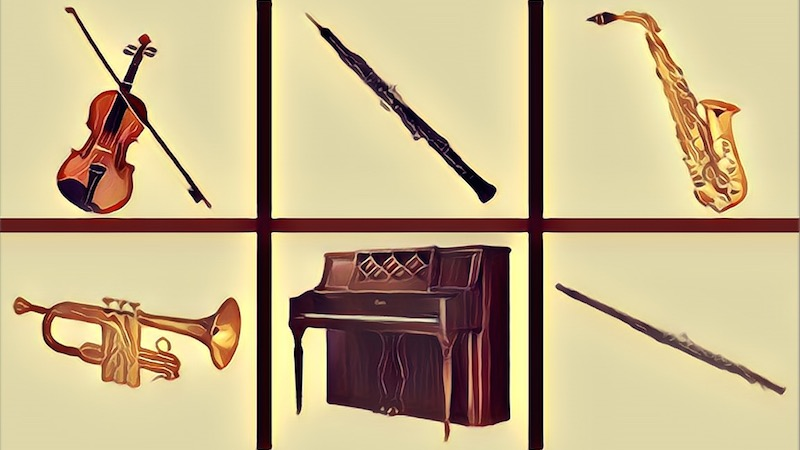Piano: (275, 244, 530, 441)
Saxophone: (561, 1, 769, 221), (7, 272, 247, 417)
Violin: (23, 12, 229, 236)
